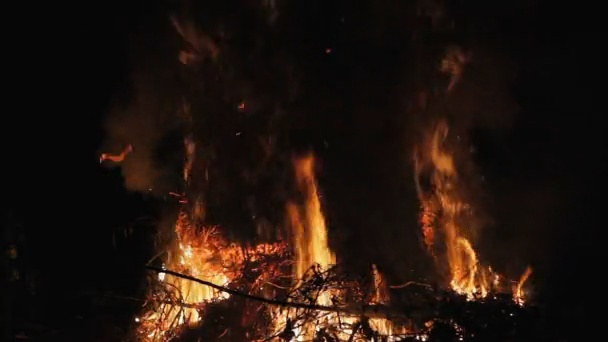fire: (139, 236, 239, 341), (287, 158, 337, 281), (268, 286, 363, 342), (439, 211, 486, 300), (511, 270, 529, 306), (370, 316, 394, 342)
